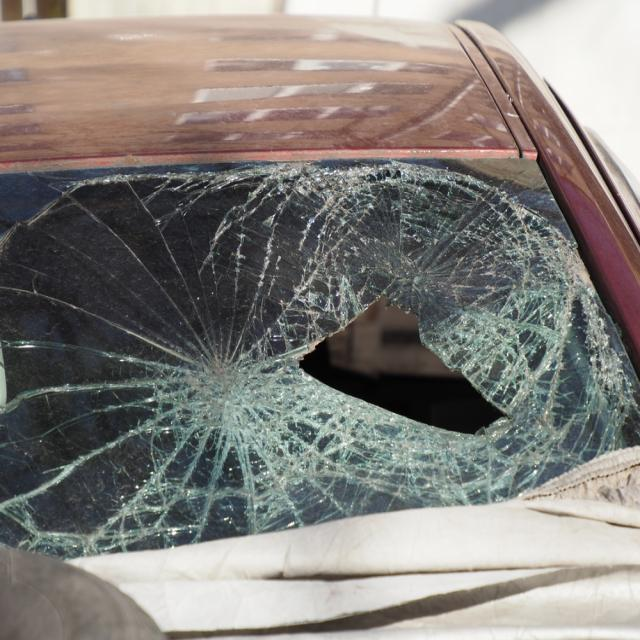glass shatter: (0, 159, 640, 558)
